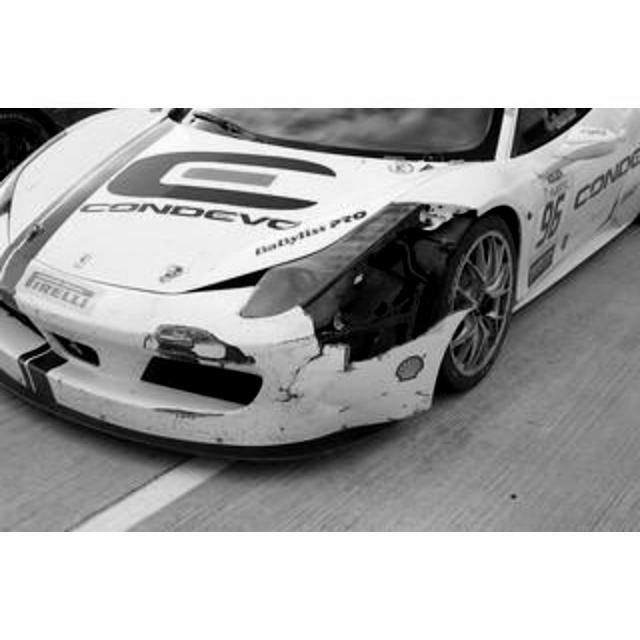front-bumper-dent: (164, 326, 404, 448)
